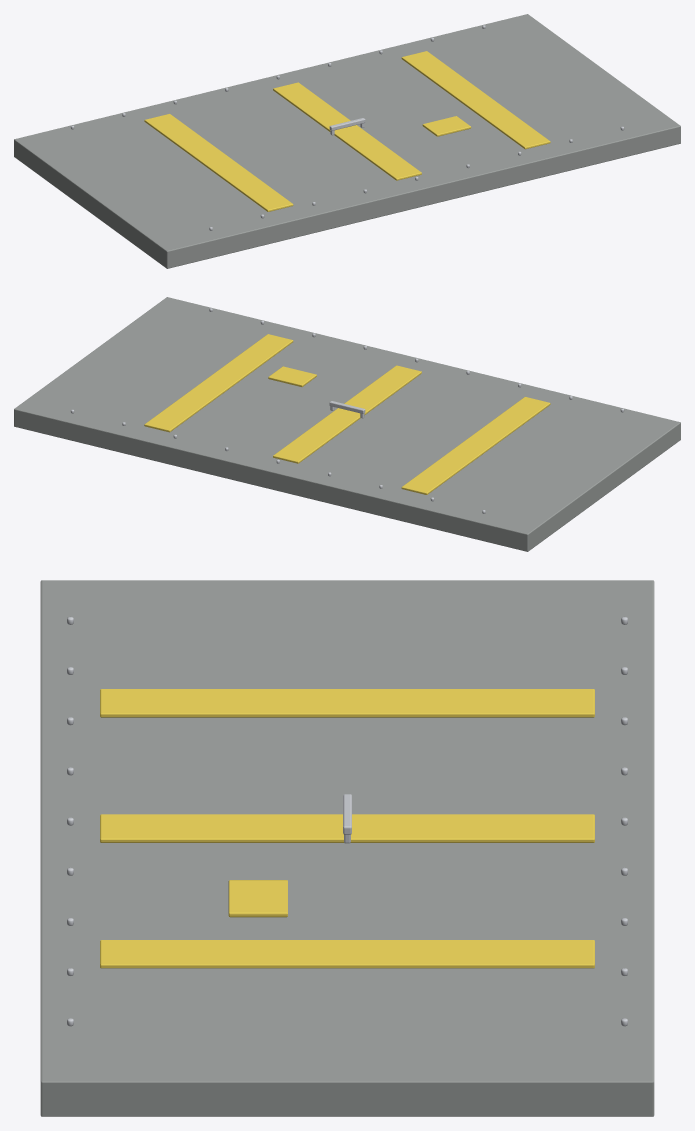
The model's file is крышка_люка.glb.
The picture shows the model from 3 angles, top to bottom: view 1: azimuth 30°, elevation 25°; view 2: azimuth 150°, elevation 25°; view 3: azimuth 270°, elevation 25°; orthographic projection. The views are drawn at different scales.
Visible parts, largest first — view 1: крышка_люка; view 2: крышка_люка; view 3: крышка_люка.
Boxes of the visible parts, left/top/right/bottom form: крышка_люка: left=14, top=14, right=680, bottom=268; крышка_люка: left=14, top=297, right=680, bottom=551; крышка_люка: left=40, top=580, right=654, bottom=1116.
Size of the model in its own units: 12 by 0.625 by 6.2.
